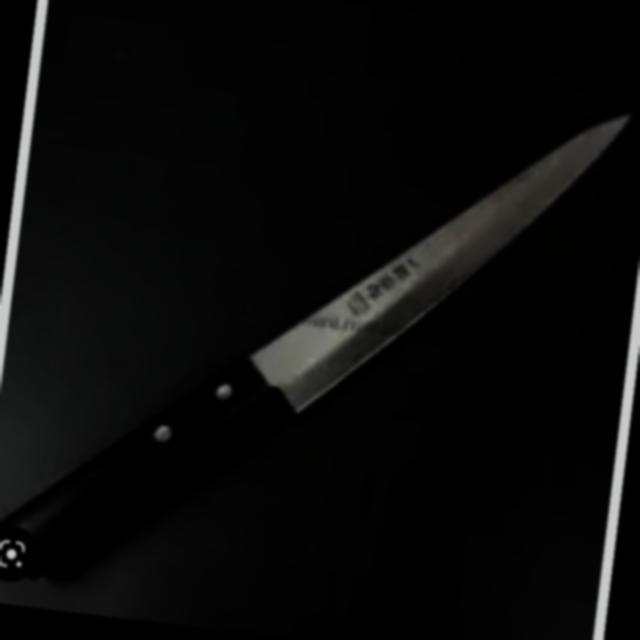knife: (0, 34, 639, 640)
